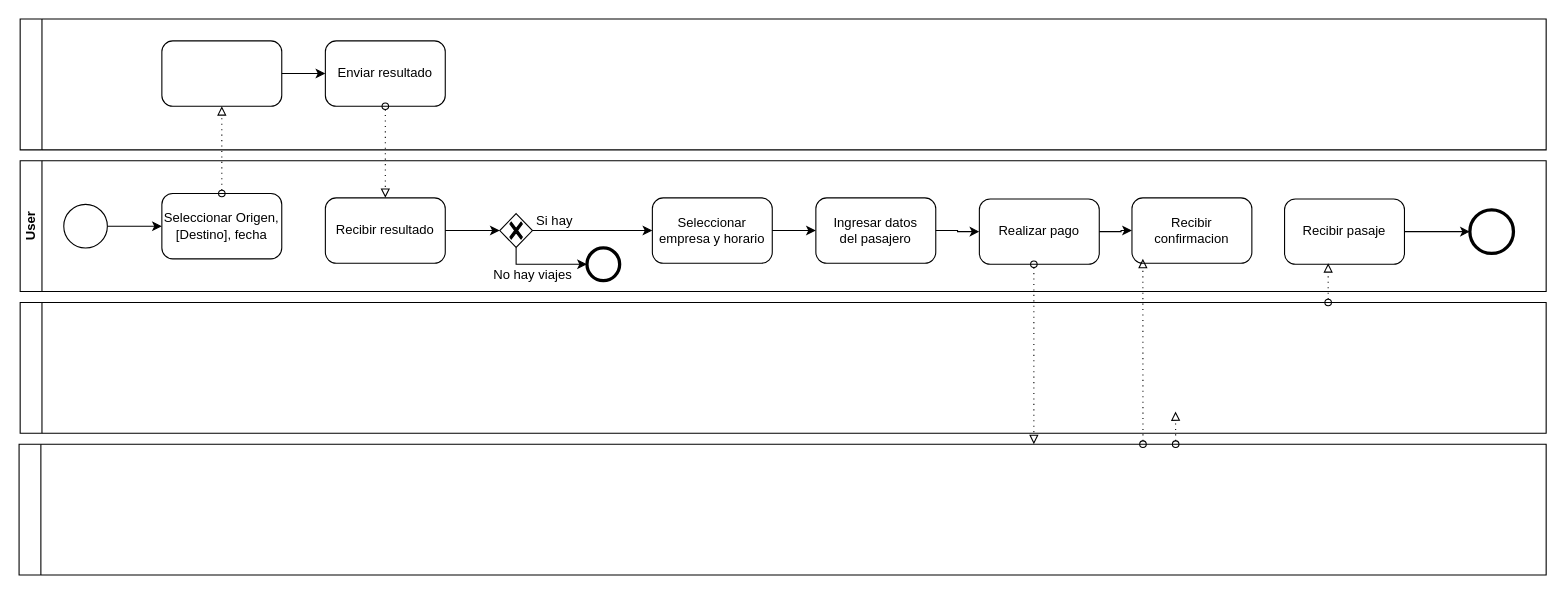
This 1565x594 diagram has some shape labels left out. The shapes that lost their labels are listed below. From the top down, each one's box as (x1, y1, x2, y2) in pixels, then its label:
(161, 40, 282, 106): Recibir solicitud
(19, 18, 1546, 150): App
(19, 301, 1546, 433): SMTP (Email)
(18, 443, 1546, 575): Payment
